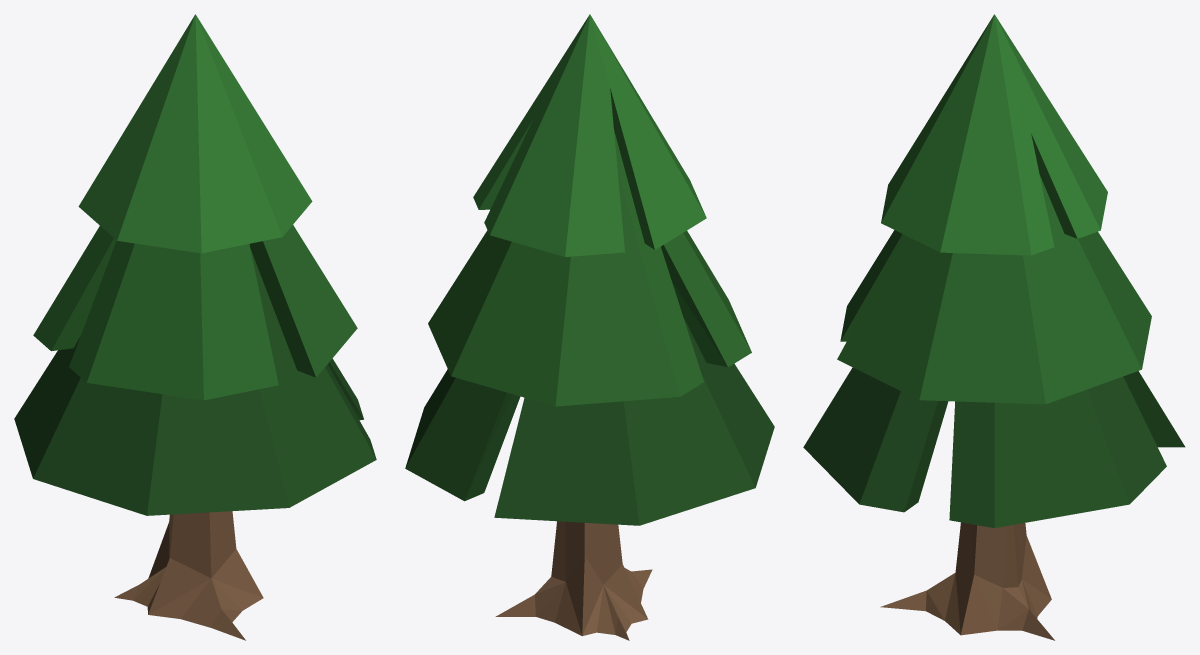
File: Tree_C_02.FBX
3 views of the same model, side by side, from view 1: azimuth 30°, elevation 25°; view 2: azimuth 150°, elevation 25°; view 3: azimuth 270°, elevation 25° (orthographic).
Visible parts, largest first — view 1: Tree_C_02; view 2: Tree_C_02; view 3: Tree_C_02.
Boxes of the visible parts, bbox=[...] form: Tree_C_02: bbox=[14, 14, 376, 640]; Tree_C_02: bbox=[405, 14, 774, 640]; Tree_C_02: bbox=[803, 14, 1185, 640].
Bounding box in the file's own units: 2.76 × 4.74 × 2.76.
